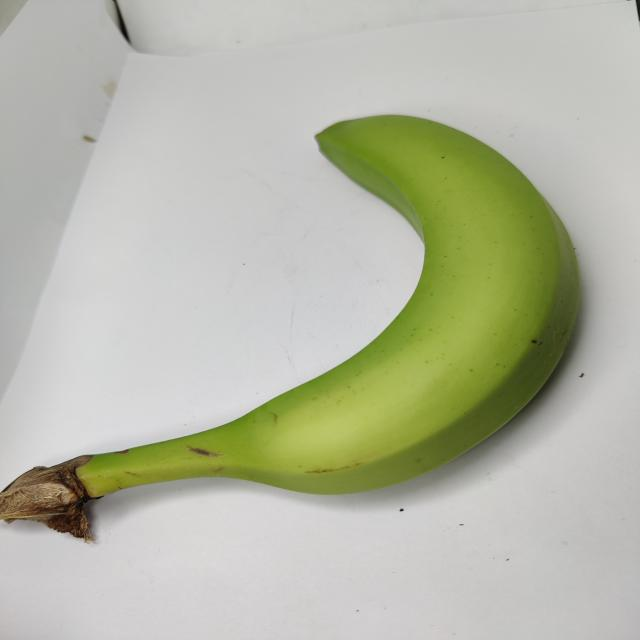raw: (0, 62, 640, 546)
